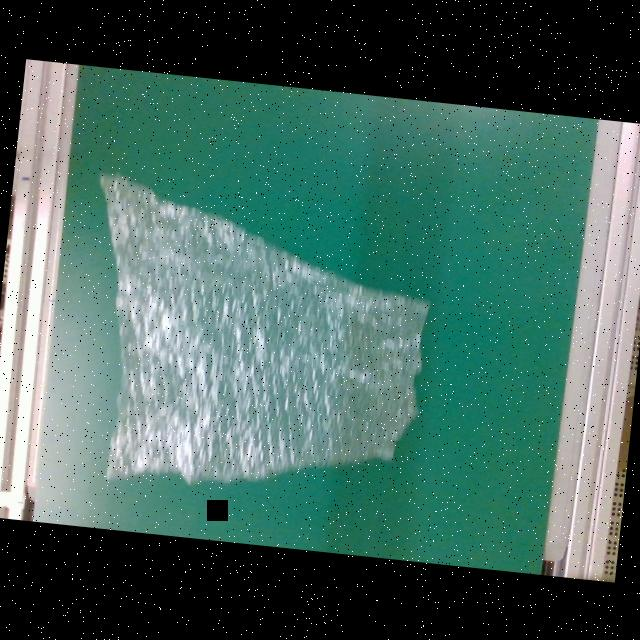scrap_plastic: (66, 170, 440, 518)
